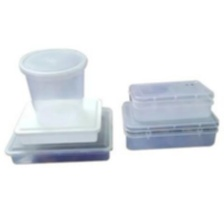plastic_box: (0, 93, 119, 168), (118, 97, 223, 155), (14, 42, 93, 106), (124, 75, 218, 127)
